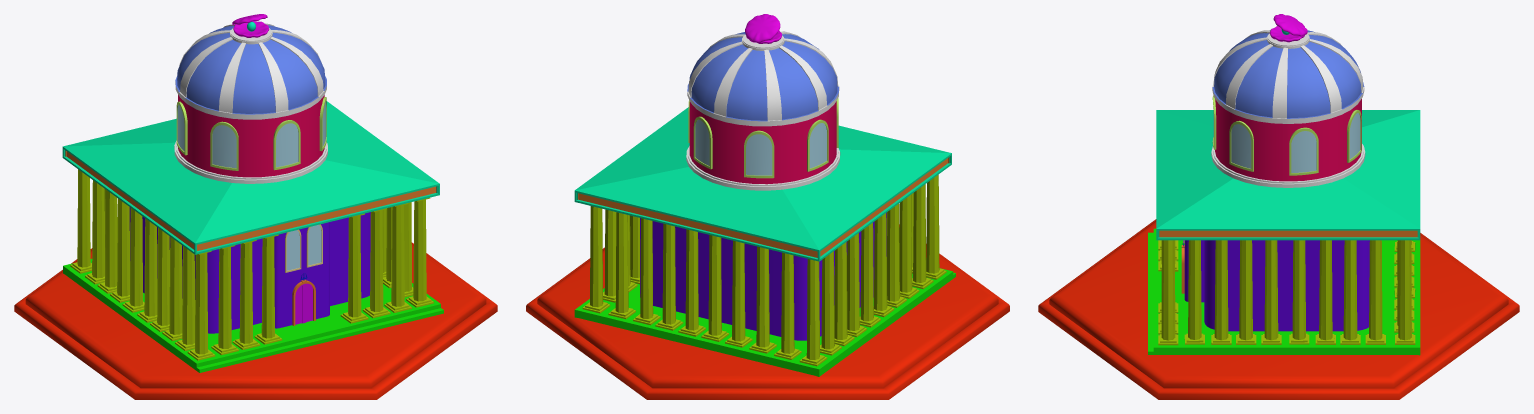
File: Museum.fbx
3 renders of one model, left to right at view 1: azimuth 30°, elevation 25°; view 2: azimuth 150°, elevation 25°; view 3: azimuth 270°, elevation 25°, orthographic.
Visible parts, largest first — view 1: Roof, HexagonBase, Columns, Base, Foundation, RoofWindows, BaseWindows, Door.001, Shell; view 2: Roof, Columns, HexagonBase, Base, Foundation, RoofWindows, Shell; view 3: Roof, HexagonBase, Columns, Base, Foundation, RoofWindows, Shell.
Boxes of the visible parts, left/top/right/bottom form: Roof: left=62, top=23, right=439, bottom=254; HexagonBase: left=14, top=242, right=497, bottom=399; Columns: left=70, top=169, right=433, bottom=360; Base: left=129, top=207, right=370, bottom=333; Foundation: left=63, top=258, right=443, bottom=372; RoofWindows: left=176, top=97, right=326, bottom=170; BaseWindows: left=285, top=224, right=322, bottom=272; Door.001: left=295, top=283, right=312, bottom=324; Shell: left=232, top=14, right=269, bottom=37; Roof: left=574, top=31, right=951, bottom=261; Columns: left=582, top=174, right=946, bottom=366; HexagonBase: left=526, top=224, right=1009, bottom=399; Base: left=640, top=212, right=886, bottom=340; Foundation: left=574, top=268, right=955, bottom=376; RoofWindows: left=688, top=98, right=838, bottom=178; Shell: left=745, top=14, right=781, bottom=43; Roof: left=1156, top=30, right=1420, bottom=240; HexagonBase: left=1038, top=219, right=1519, bottom=399; Columns: left=1158, top=240, right=1415, bottom=345; Base: left=1184, top=240, right=1369, bottom=331; Foundation: left=1148, top=228, right=1420, bottom=355; RoofWindows: left=1212, top=95, right=1361, bottom=175; Shell: left=1269, top=14, right=1307, bottom=42.
Bounding box in the file's own units: 327 × 255 × 377.
